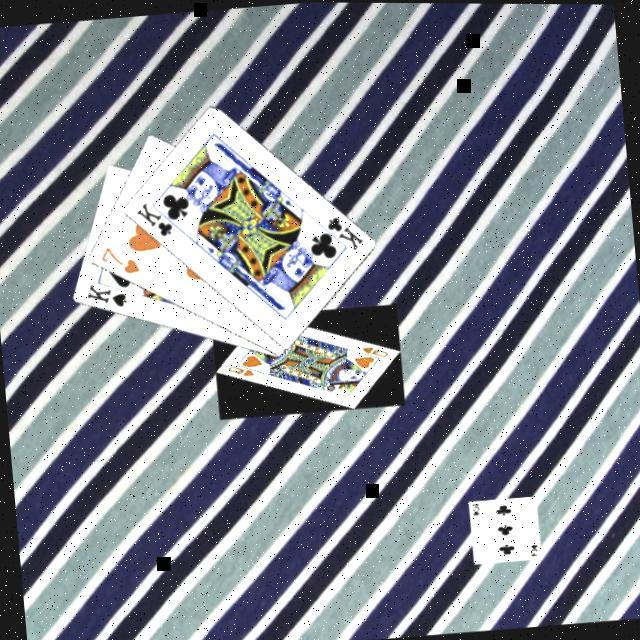7H: (98, 242, 144, 280)
KC: (316, 212, 368, 257), (134, 197, 184, 243)
KS: (84, 280, 132, 314)
